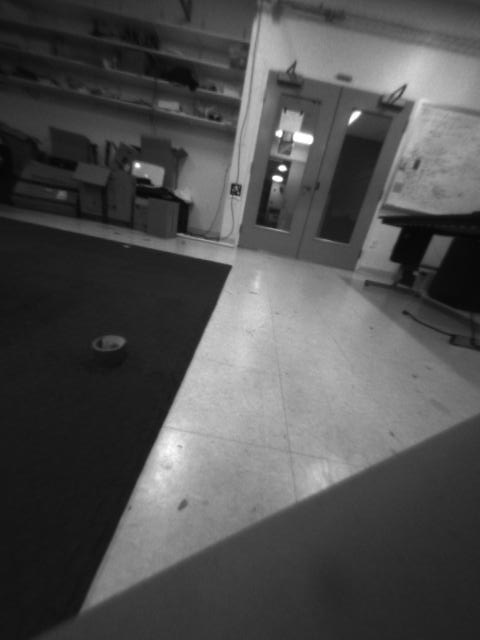dogtoy: (89, 331, 130, 361)
